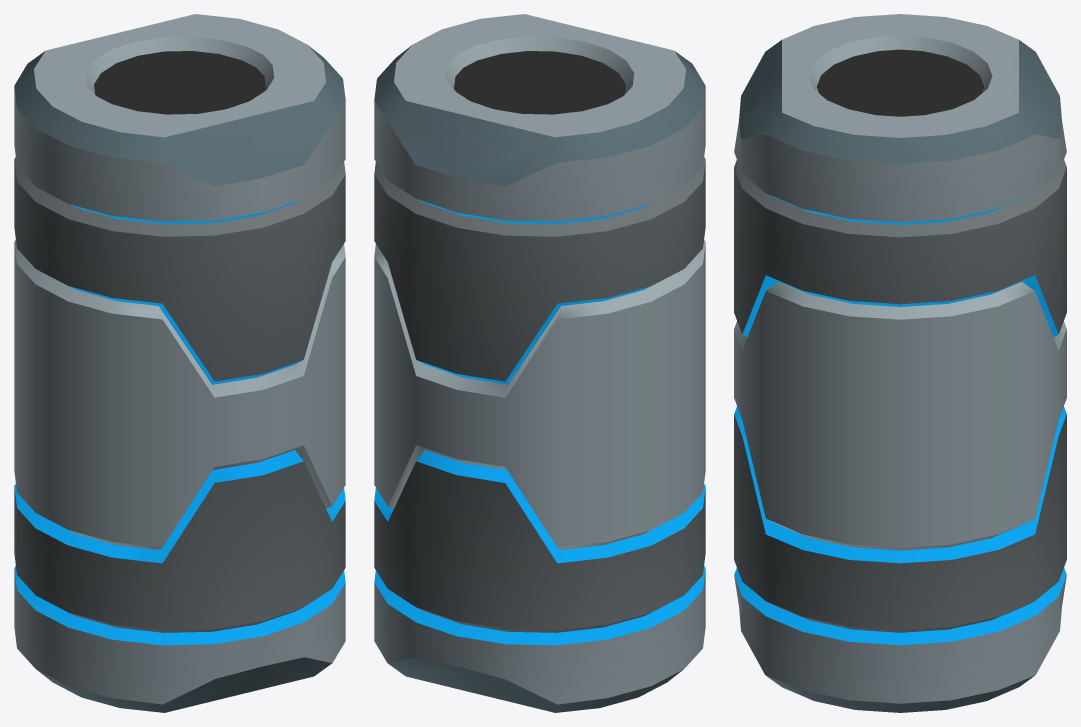
The model's file is Battery_004.glb.
The picture shows the model from 3 angles, left to right: view 1: azimuth 30°, elevation 25°; view 2: azimuth 150°, elevation 25°; view 3: azimuth 270°, elevation 25°; orthographic projection.
Visible parts, largest first — view 1: Battery_004; view 2: Battery_004; view 3: Battery_004.
Part boxes in pixels (<box>): Battery_004: <box>14,14,345,712</box>; Battery_004: <box>374,14,705,712</box>; Battery_004: <box>734,14,1066,712</box>.
Size of the model in its own units: 0.4995 by 0.9523 by 0.4995.
2 materials, 2 textured.
